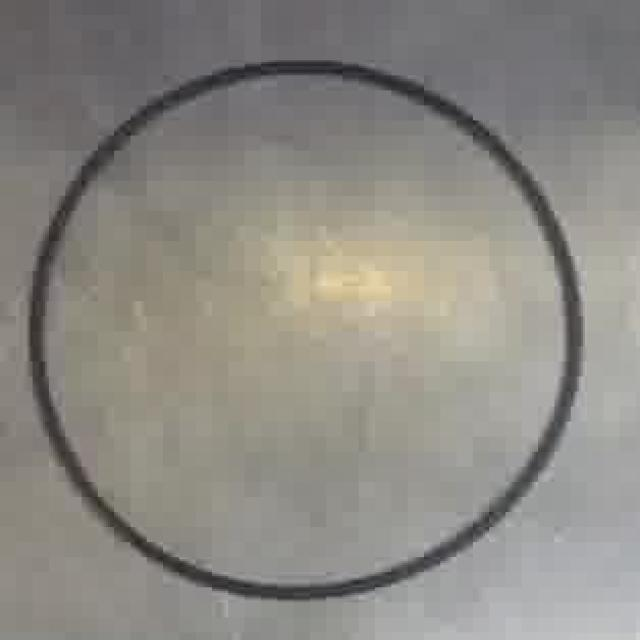Circle: (26, 56, 588, 598)
